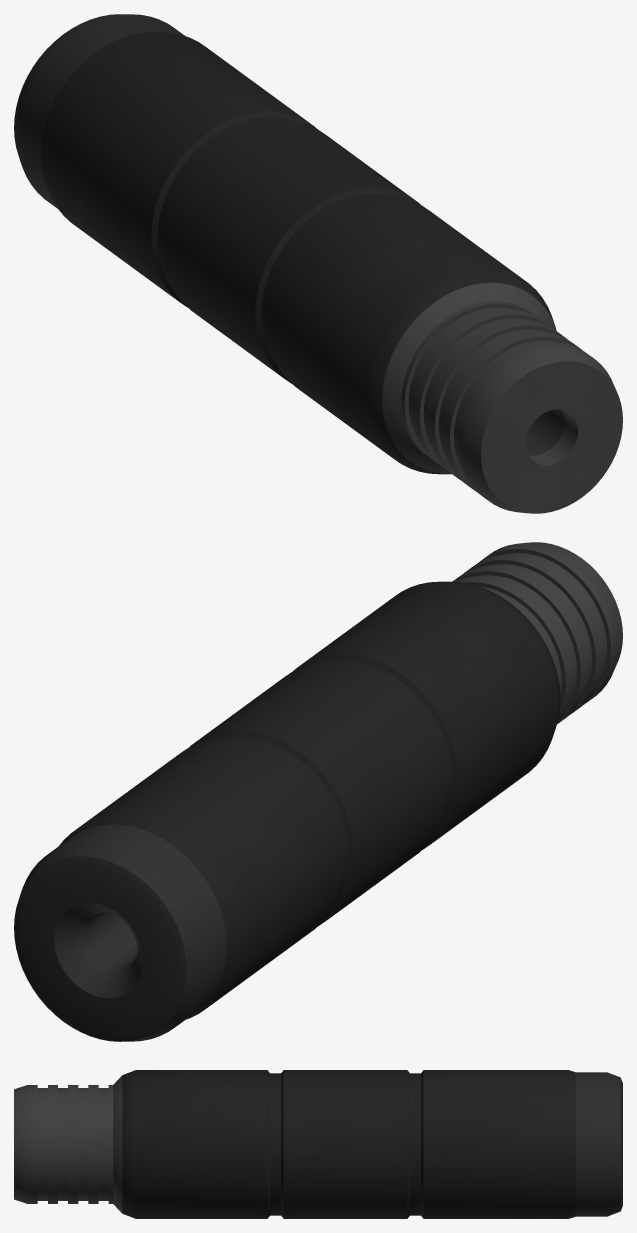
Rendered from SuppSMG.glb.
The picture shows the model from 3 angles, top to bottom: view 1: azimuth 30°, elevation 25°; view 2: azimuth 150°, elevation 25°; view 3: azimuth 270°, elevation 25°; orthographic projection. The views are drawn at different scales.
Parts seen in each view (by area): view 1: SuppSMG_Body; view 2: SuppSMG_Body; view 3: SuppSMG_Body.
Part boxes in pixels (x1=…): SuppSMG_Body: x1=14, y1=14, x2=622, y2=513; SuppSMG_Body: x1=14, y1=542, x2=622, y2=1041; SuppSMG_Body: x1=14, y1=1070, x2=622, y2=1218.
Bounding box in the file's own units: 0.033 × 0.033 × 0.135.
Materials: 3 (3 with a texture image).
